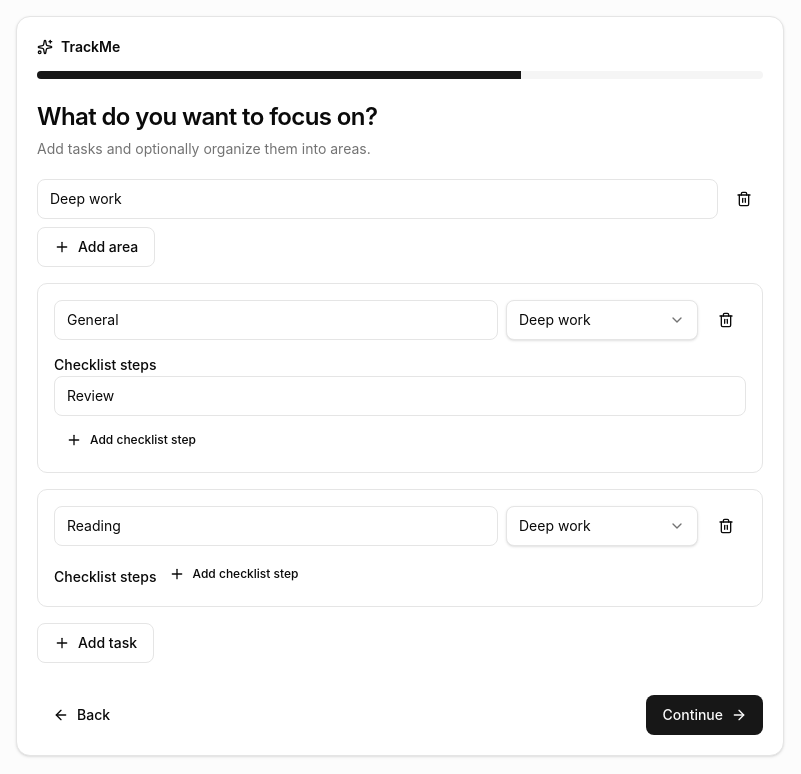
OnboardingWizard › shows a field-level duration error before finalization
expect the field showing "Deep work" is shown: met, box left=37, top=178, right=718, bottom=218
Click the button "Continue".
click(705, 714)  # box left=646, top=694, right=763, bottom=734
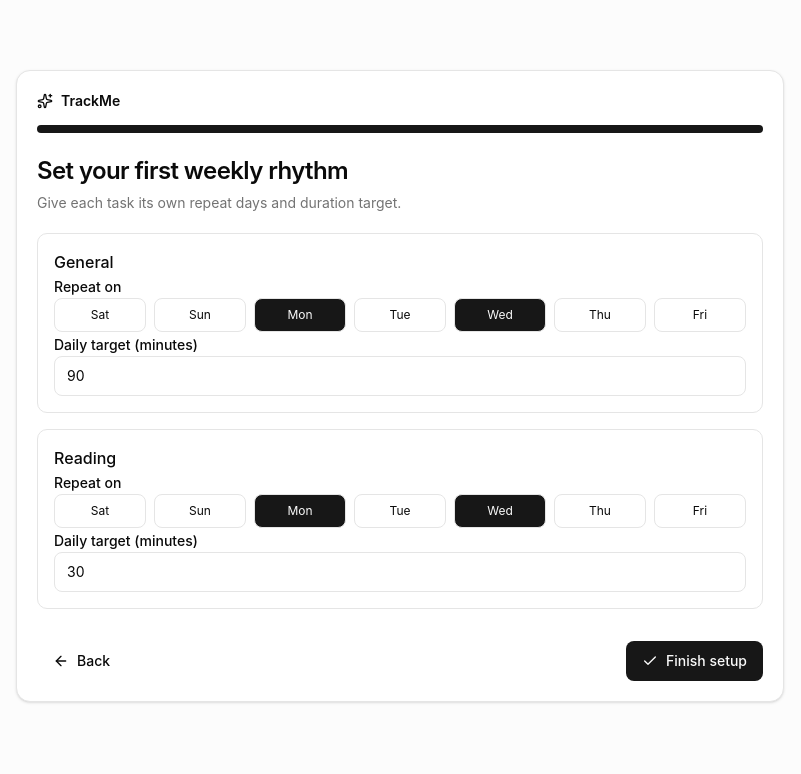
Replace the text in the number field named "General Daily target (minutes)" with "0" at (400, 376), box left=54, top=356, right=746, bottom=396
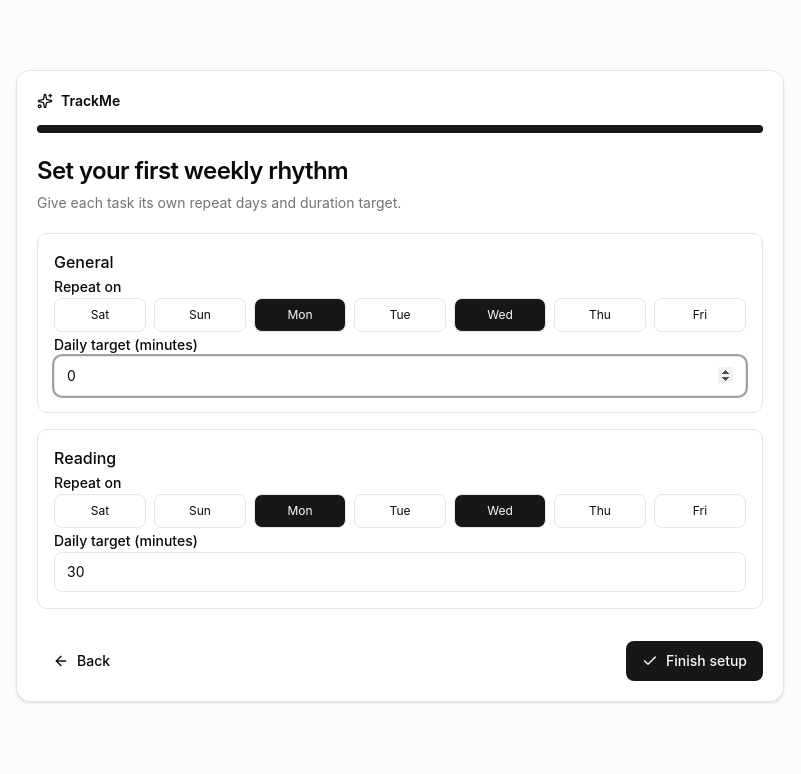
Click the button "Finish setup".
click(694, 660)  # box left=626, top=640, right=763, bottom=680
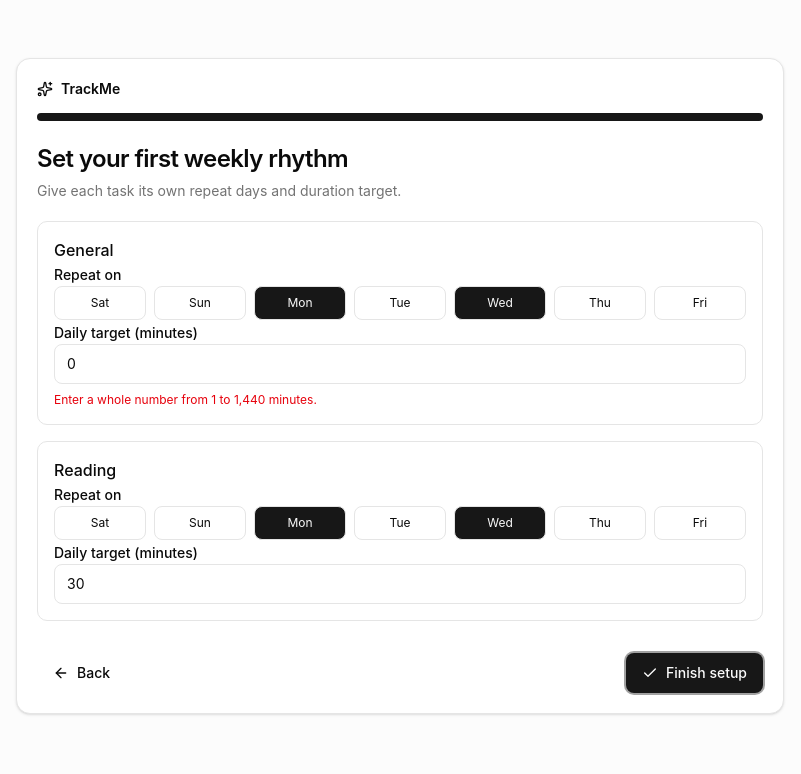
expect the text "Enter a whole number from 1 to 1,440 minutes." is shown: met, box left=54, top=392, right=317, bottom=406
